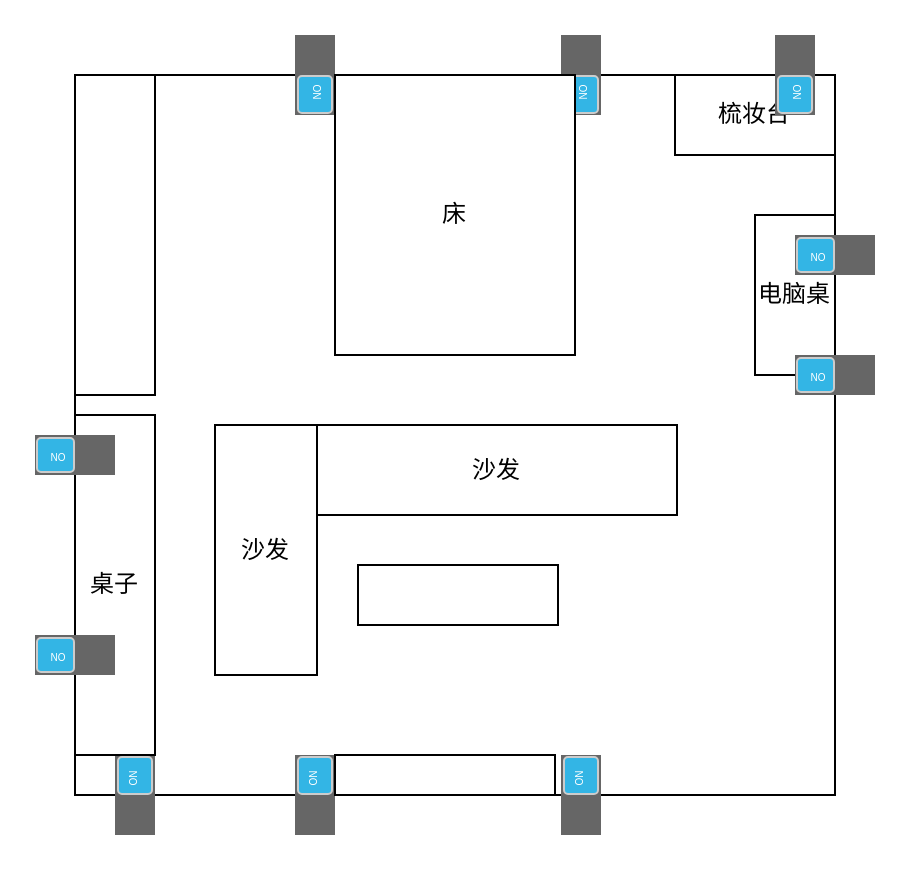
Some shapes in this 910 by 870 pixel diagram are drawn without their labels. Each missing label, with the centre of its shape:
"电视柜子" belongs at (444,774).
"茶几" belongs at (457,594).
"衣柜" belongs at (114,234).
